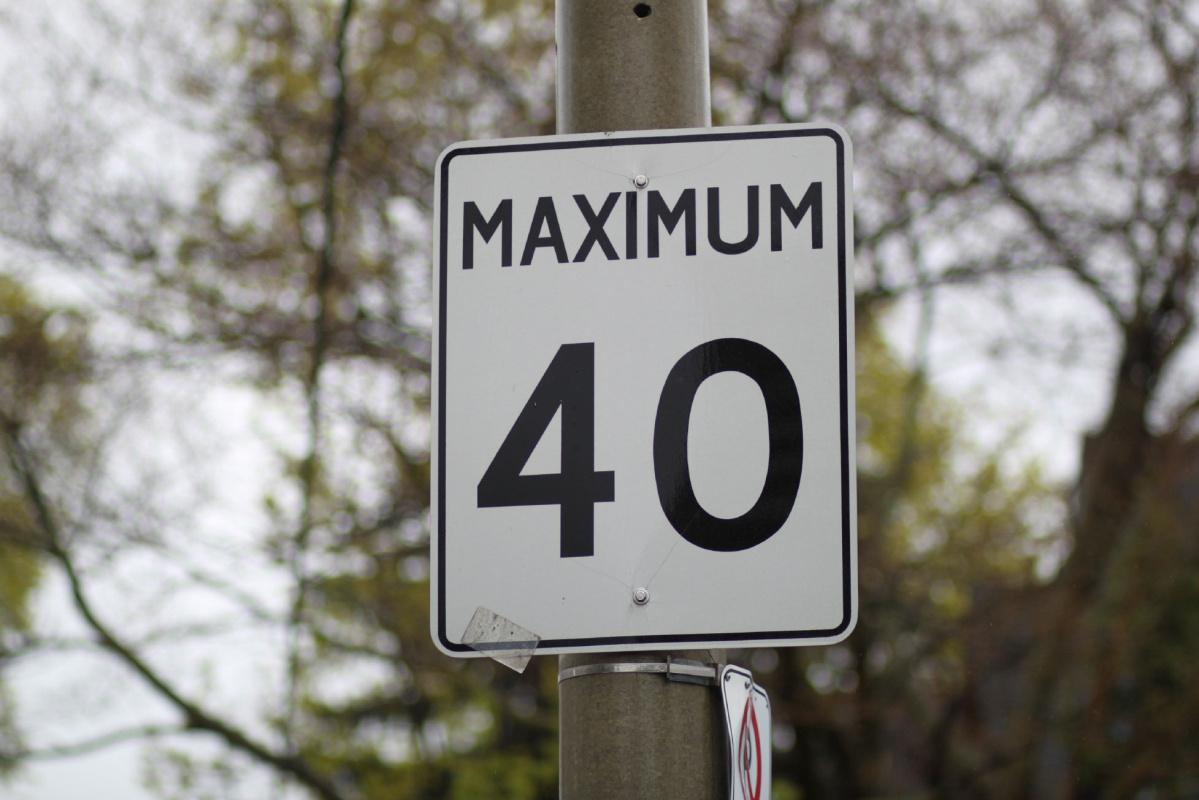speed limit sign: (422, 135, 863, 645)
